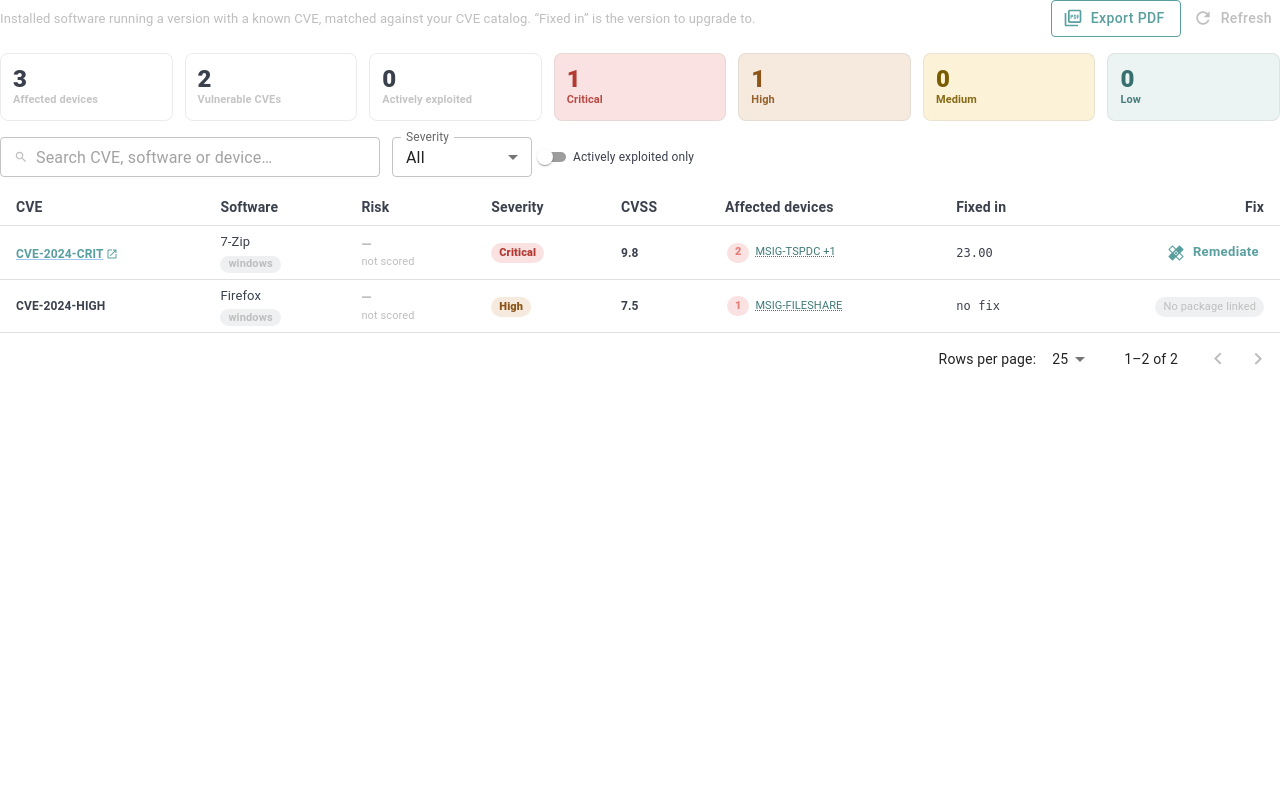
Test: qué equipos están afectados › ⭐ el diálogo de Remediate dice a qué equipos va a desplegar
Click the button "Remediate" at (1214, 253), box [1164, 237, 1264, 268]
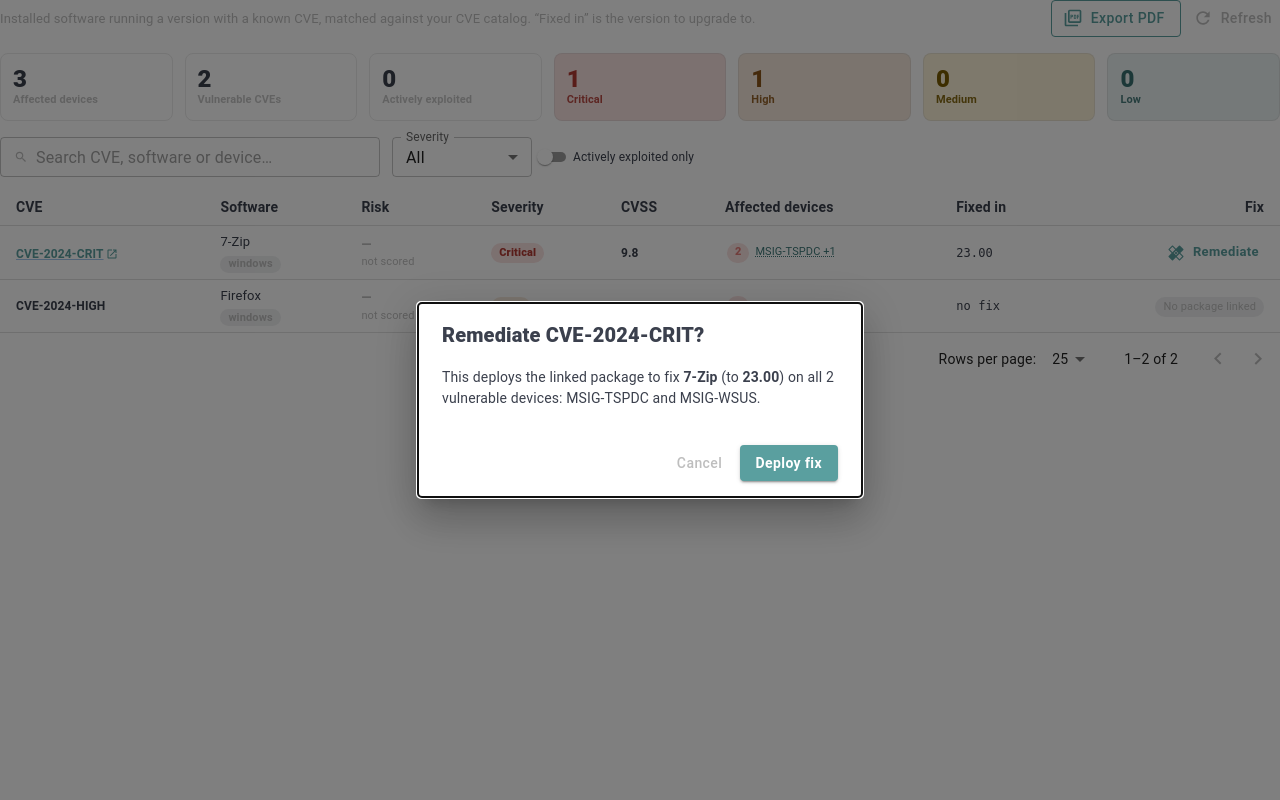
Check: the text "on all 2 vulnerable devices: MSIG-TSPDC and MSIG-WSUS" is shown, box [442, 369, 834, 406]
